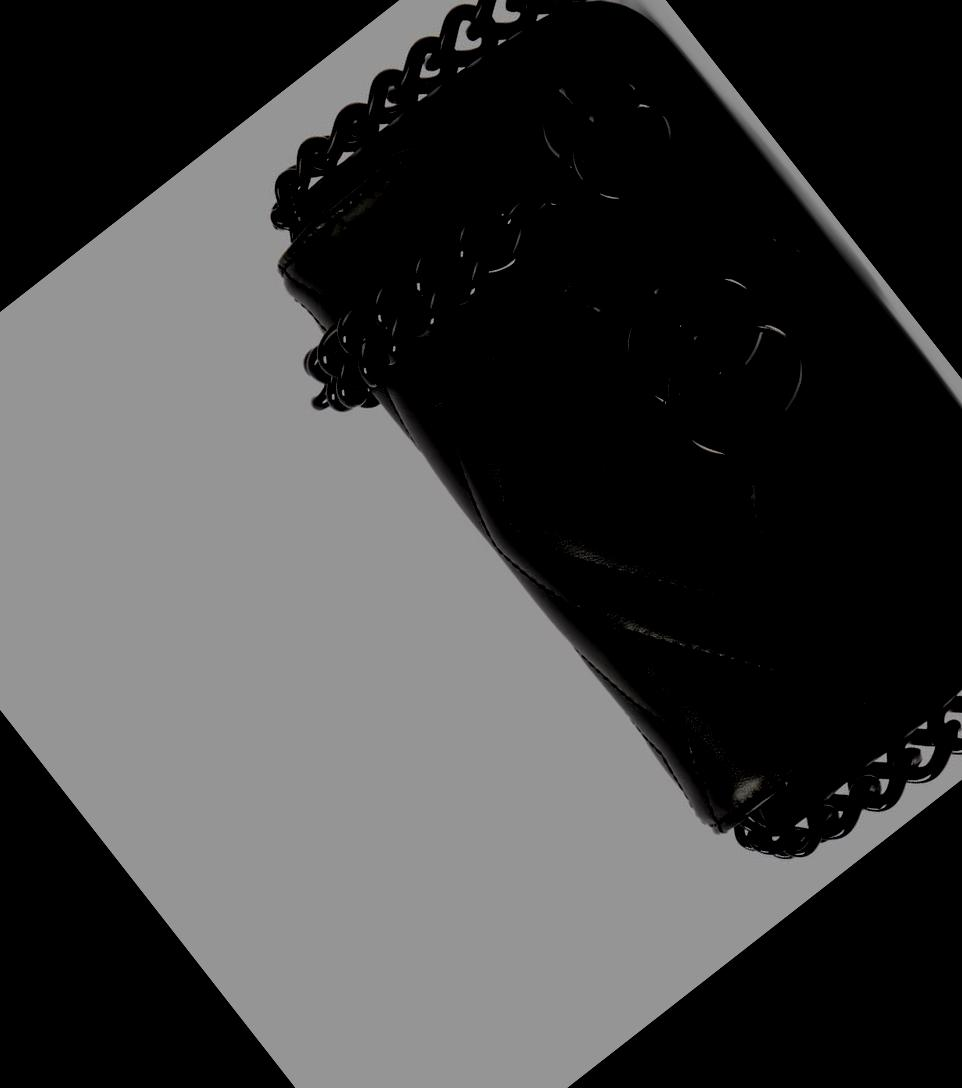GUCCI: (593, 226, 848, 490), (518, 35, 706, 227)
